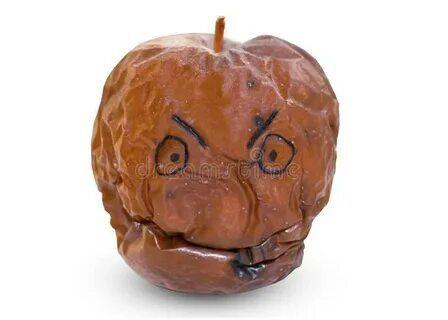Apple: (90, 22, 340, 301)
